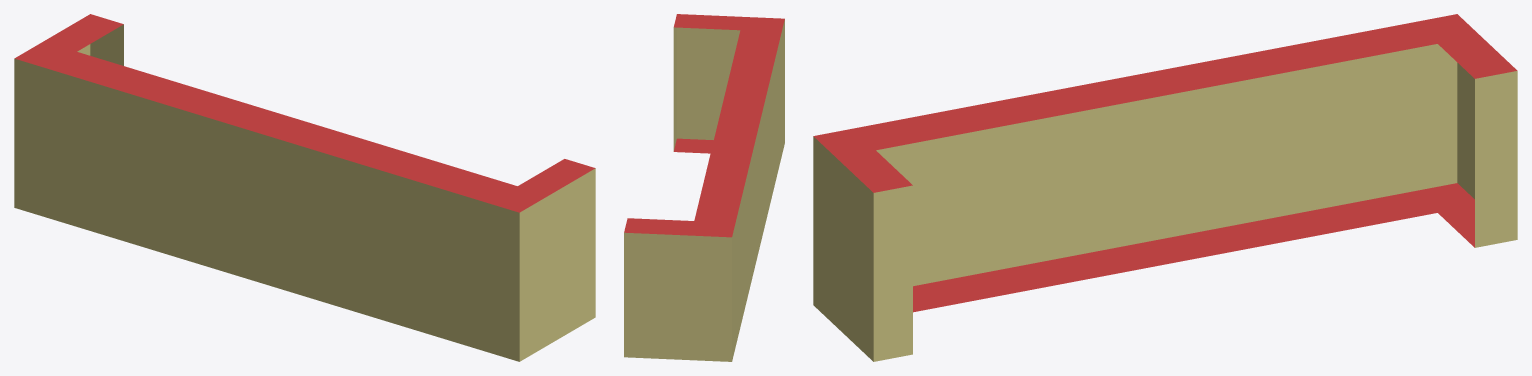
3 views of the same model, side by side, from view 1: azimuth 30°, elevation 25°; view 2: azimuth 150°, elevation 25°; view 3: azimuth 270°, elevation 25° (orthographic). The views are drawn at different scales.
Size of the model in its own units: 20.4 by 33.94 by 8.99.
